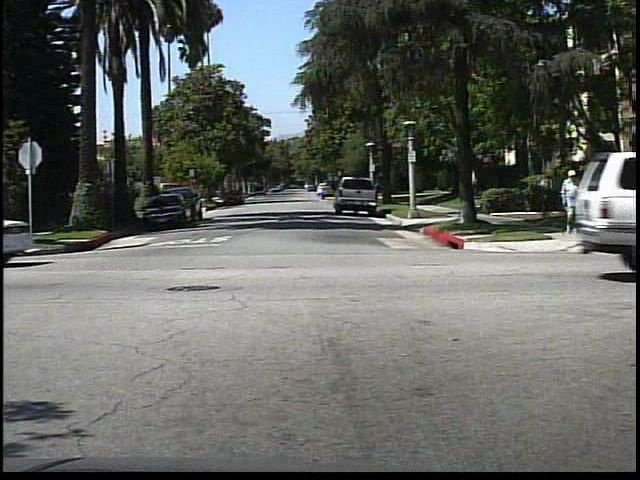person: (557, 167, 587, 237)
